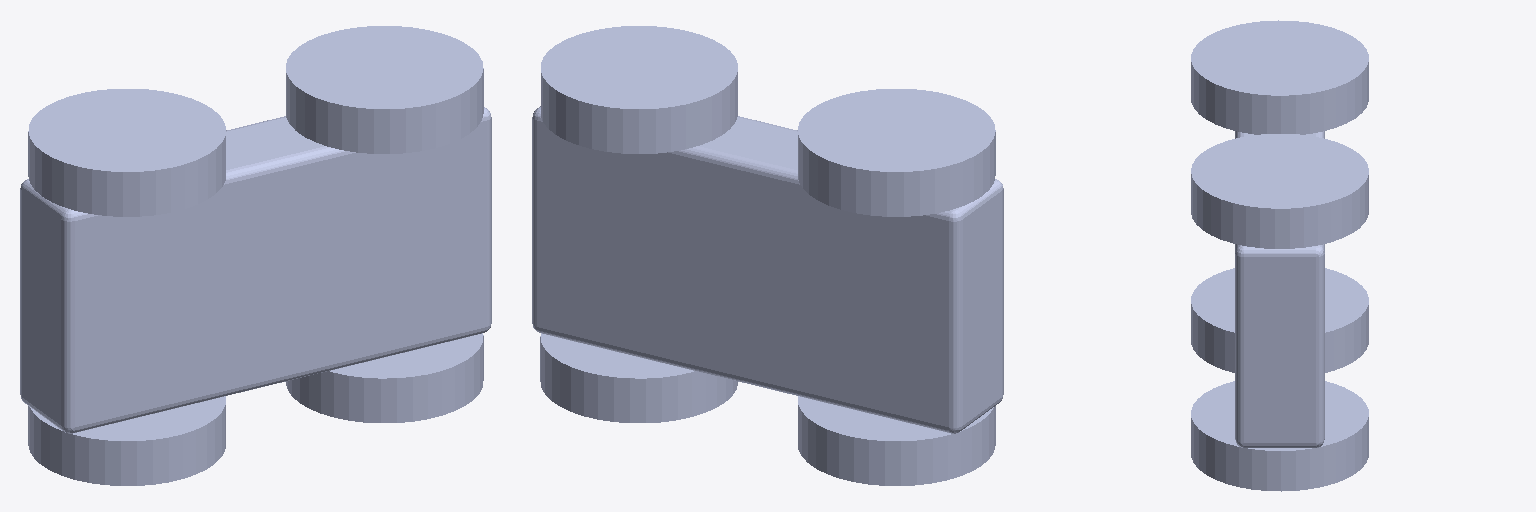
URDF robot description (Assem1):
<?xml version="1.0" encoding="utf-8"?>
<!-- This URDF was automatically created by SolidWorks to URDF Exporter! Originally created by [author] ([email redacted]) 
     Commit Version: 1.6.0-4-g7f85cfe  Build Version: 1.6.7995.38578
     For more information, please see http://wiki.ros.org/sw_urdf_exporter -->
<robot
  name="Assem1">
  <link
    name="base_link">
    <inertial>
      <origin
        xyz="0.000117580106310578 -0.109999999999991 0.00170491154150406"
        rpy="0 0 0" />
      <mass
        value="0.099112837613348" />
      <inertia
        ixx="2.37750457828881E-05"
        ixy="-3.83863503012889E-21"
        ixz="2.84343335565103E-21"
        iyy="0.00010269070599238"
        iyz="-2.82849564826259E-22"
        izz="8.54854281591431E-05" />
    </inertial>
    <visual>
      <origin
        xyz="0 0 0"
        rpy="0 0 0" />
      <geometry>
        <mesh
          filename="package://Assem1/meshes/base_link.STL" />
      </geometry>
      <material
        name="">
        <color
          rgba="0.792156862745098 0.819607843137255 0.933333333333333 1" />
      </material>
    </visual>
    <collision>
      <origin
        xyz="0 0 0"
        rpy="0 0 0" />
      <geometry>
        <mesh
          filename="package://Assem1/meshes/base_link.STL" />
      </geometry>
    </collision>
  </link>
  <link
    name="wheel_1">
    <inertial>
      <origin
        xyz="2.77555756156289E-17 -1.38777878078145E-17 0.005"
        rpy="0 0 0" />
      <mass
        value="0.0125663706143592" />
      <inertia
        ixx="1.36135681655557E-06"
        ixy="0"
        ixz="2.38525282388307E-23"
        iyy="1.36135681655558E-06"
        iyz="-7.33867931534528E-24"
        izz="2.51327412287183E-06" />
    </inertial>
    <visual>
      <origin
        xyz="0 0 0"
        rpy="0 0 0" />
      <geometry>
        <mesh
          filename="package://Assem1/meshes/wheel_1.STL" />
      </geometry>
      <material
        name="">
        <color
          rgba="0.792156862745098 0.819607843137255 0.933333333333333 1" />
      </material>
    </visual>
    <collision>
      <origin
        xyz="0 0 0"
        rpy="0 0 0" />
      <geometry>
        <mesh
          filename="package://Assem1/meshes/wheel_1.STL" />
      </geometry>
    </collision>
  </link>
  <joint
    name="wheel_1_joint"
    type="continuous">
    <origin
      xyz="-0.0298824198936894 -0.109999999999991 -0.0232950884584959"
      rpy="-3.14159265358979 0 -2.6546719690692" />
    <parent
      link="base_link" />
    <child
      link="wheel_1" />
    <axis
      xyz="0 0 1" />
  </joint>
  <link
    name="wheel_2">
    <inertial>
      <origin
        xyz="0 -1.38777878078145E-17 0.005"
        rpy="0 0 0" />
      <mass
        value="0.0125663706143592" />
      <inertia
        ixx="1.36135681655558E-06"
        ixy="1.58818677610181E-22"
        ixz="-5.80916764838295E-24"
        iyy="1.36135681655558E-06"
        iyz="1.46732097561138E-23"
        izz="2.51327412287183E-06" />
    </inertial>
    <visual>
      <origin
        xyz="0 0 0"
        rpy="0 0 0" />
      <geometry>
        <mesh
          filename="package://Assem1/meshes/wheel_2.STL" />
      </geometry>
      <material
        name="">
        <color
          rgba="0.792156862745098 0.819607843137255 0.933333333333333 1" />
      </material>
    </visual>
    <collision>
      <origin
        xyz="0 0 0"
        rpy="0 0 0" />
      <geometry>
        <mesh
          filename="package://Assem1/meshes/wheel_2.STL" />
      </geometry>
    </collision>
  </link>
  <joint
    name="wheel_2_joint"
    type="continuous">
    <origin
      xyz="0.0301175801063106 -0.109999999999991 -0.0232950884584959"
      rpy="-3.14159265358979 0 -2.46508337839107" />
    <parent
      link="base_link" />
    <child
      link="wheel_2" />
    <axis
      xyz="0 0 1" />
  </joint>
  <link
    name="wheel_3">
    <inertial>
      <origin
        xyz="4.16333634234434E-17 6.93889390390723E-18 0.00499999999999999"
        rpy="0 0 0" />
      <mass
        value="0.0125663706143592" />
      <inertia
        ixx="1.36135681655558E-06"
        ixy="0"
        ixz="-4.94852127834538E-22"
        iyy="1.36135681655558E-06"
        iyz="-4.31077259866146E-22"
        izz="2.51327412287183E-06" />
    </inertial>
    <visual>
      <origin
        xyz="0 0 0"
        rpy="0 0 0" />
      <geometry>
        <mesh
          filename="package://Assem1/meshes/wheel_3.STL" />
      </geometry>
      <material
        name="">
        <color
          rgba="0.792156862745098 0.819607843137255 0.933333333333333 1" />
      </material>
    </visual>
    <collision>
      <origin
        xyz="0 0 0"
        rpy="0 0 0" />
      <geometry>
        <mesh
          filename="package://Assem1/meshes/wheel_3.STL" />
      </geometry>
    </collision>
  </link>
  <joint
    name="wheel_3_joint"
    type="continuous">
    <origin
      xyz="-0.0298824198936894 -0.109999999999991 0.0267049115415041"
      rpy="0 0 1.66909505300862" />
    <parent
      link="base_link" />
    <child
      link="wheel_3" />
    <axis
      xyz="0 0 1" />
  </joint>
  <link
    name="wheel_4">
    <inertial>
      <origin
        xyz="1.38777878078145E-17 -1.38777878078145E-17 0.005"
        rpy="0 0 0" />
      <mass
        value="0.0125663706143592" />
      <inertia
        ixx="1.36135681655558E-06"
        ixy="2.64697796016969E-23"
        ixz="-7.99720186791675E-22"
        iyy="1.36135681655558E-06"
        iyz="-7.46281662411181E-22"
        izz="2.51327412287183E-06" />
    </inertial>
    <visual>
      <origin
        xyz="0 0 0"
        rpy="0 0 0" />
      <geometry>
        <mesh
          filename="package://Assem1/meshes/wheel_4.STL" />
      </geometry>
      <material
        name="">
        <color
          rgba="0.792156862745098 0.819607843137255 0.933333333333333 1" />
      </material>
    </visual>
    <collision>
      <origin
        xyz="0 0 0"
        rpy="0 0 0" />
      <geometry>
        <mesh
          filename="package://Assem1/meshes/wheel_4.STL" />
      </geometry>
    </collision>
  </link>
  <joint
    name="wheel_4_joint"
    type="continuous">
    <origin
      xyz="0.0301175801063106 -0.109999999999991 0.0267049115415041"
      rpy="0 0 1.43246122541785" />
    <parent
      link="base_link" />
    <child
      link="wheel_4" />
    <axis
      xyz="0 0 1" />
  </joint>
</robot>

--- Facts derived from the render (not from the file) ---
Views: 3 orthographic renders of the robot side by side, from view 1: azimuth 30°, elevation 25°; view 2: azimuth 150°, elevation 25°; view 3: azimuth 270°, elevation 25°.
Robot: Assem1 — 5 links, 4 joints (4 continuous); root link base_link; default pose: all joints at 0.
Links seen in each view (by area): view 1: base_link, wheel_3, wheel_4, wheel_1, wheel_2; view 2: base_link, wheel_3, wheel_4, wheel_1, wheel_2; view 3: base_link, wheel_4, wheel_3, wheel_2, wheel_1.
Boxes of the visible links, <box> form: base_link: <box>20,107,491,433</box>; wheel_3: <box>28,89,225,216</box>; wheel_4: <box>286,26,483,153</box>; wheel_1: <box>28,396,225,485</box>; wheel_2: <box>286,333,483,422</box>; base_link: <box>532,106,1003,433</box>; wheel_3: <box>798,89,995,216</box>; wheel_4: <box>541,26,737,153</box>; wheel_1: <box>798,396,995,485</box>; wheel_2: <box>540,333,737,422</box>; base_link: <box>1235,131,1324,447</box>; wheel_4: <box>1191,134,1368,248</box>; wheel_3: <box>1191,20,1368,134</box>; wheel_2: <box>1191,381,1368,491</box>; wheel_1: <box>1191,268,1368,372</box>.
Bounding box of the posed robot: 0.1 × 0.04 × 0.07 m (x, y, z).
5 mesh visuals loaded from 5 distinct referenced files (5 binary STL).
